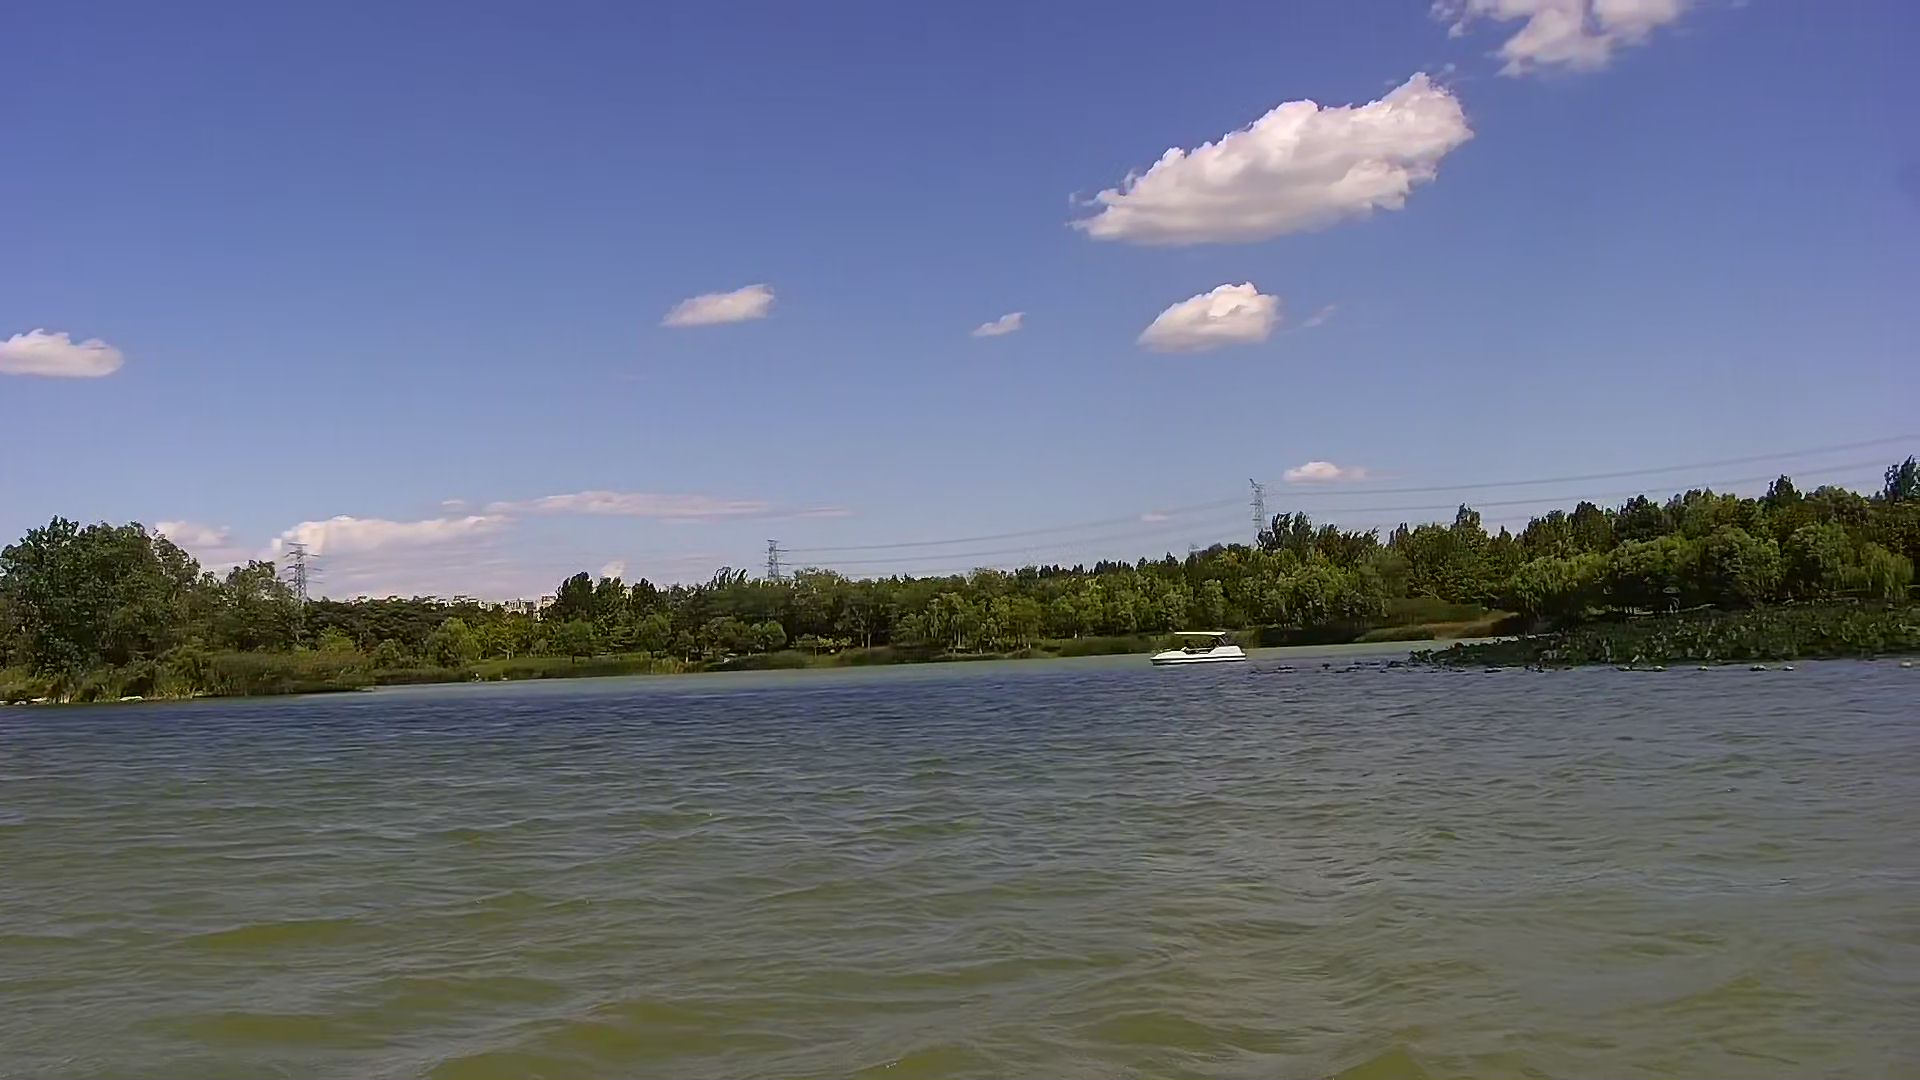boat: (1149, 629, 1247, 665)
